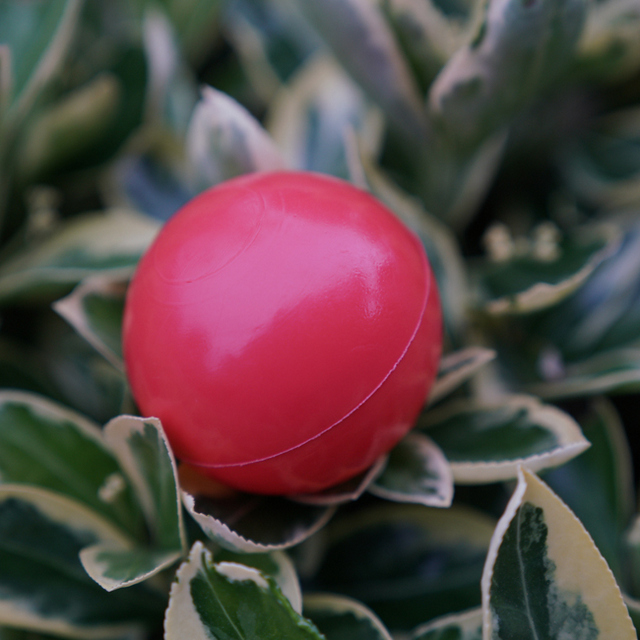Ball: (123, 171, 436, 488)
